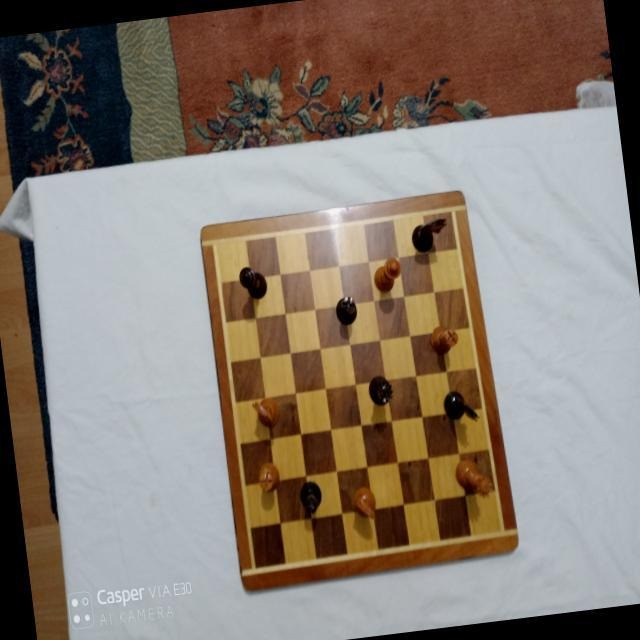black-king: (237, 263, 268, 300)
black-knight: (409, 216, 451, 254), (441, 387, 479, 425)
black-queen: (366, 373, 394, 407)
black-rook: (297, 480, 323, 516), (334, 294, 358, 326)
white-king: (371, 256, 404, 294)
white-knight: (350, 484, 377, 521), (251, 395, 281, 428)
white-queen: (453, 455, 495, 501)
white-rook: (428, 321, 459, 354), (255, 461, 280, 493)
